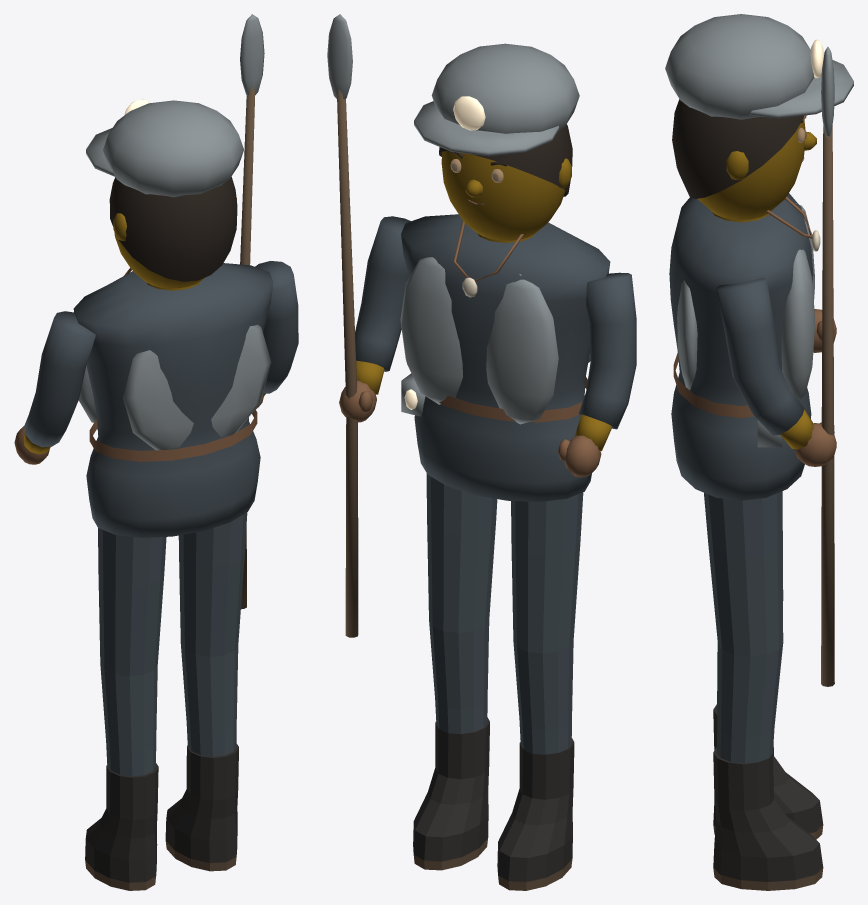
File: SM_NPC_CALDERA.glb
The picture shows the model from 3 angles, left to right: view 1: azimuth 30°, elevation 25°; view 2: azimuth 150°, elevation 25°; view 3: azimuth 270°, elevation 25°; orthographic projection. The views are drawn at different scales.
Visible parts, largest first — view 1: SM_NPC_CALDERA_BODY, SM_NPC_CALDERA_LEG_L, SM_NPC_CALDERA_HAIR, SM_NPC_CALDERA_LEG_R, SM_NPC_CALDERA_ARM_R, SM_NPC_CALDERA_ARM_L, SM_NPC_CALDERA_HEAD; view 2: SM_NPC_CALDERA_BODY, SM_NPC_CALDERA_LEG_L, SM_NPC_CALDERA_LEG_R, SM_NPC_CALDERA_HAIR, SM_NPC_CALDERA_ARM_R, SM_NPC_CALDERA_ARM_L, SM_NPC_CALDERA_HEAD; view 3: SM_NPC_CALDERA_BODY, SM_NPC_CALDERA_LEG_R, SM_NPC_CALDERA_HAIR, SM_NPC_CALDERA_ARM_R, SM_NPC_CALDERA_HEAD, SM_NPC_CALDERA_LEG_L, SM_NPC_CALDERA_ARM_L.
Part boxes in pixels (x1,y1,x2,y2): SM_NPC_CALDERA_BODY: (73, 263, 273, 537); SM_NPC_CALDERA_LEG_L: (85, 528, 166, 890); SM_NPC_CALDERA_HAIR: (86, 99, 243, 281); SM_NPC_CALDERA_LEG_R: (165, 512, 247, 871); SM_NPC_CALDERA_ARM_R: (240, 14, 298, 609); SM_NPC_CALDERA_ARM_L: (14, 311, 95, 464); SM_NPC_CALDERA_HEAD: (113, 198, 236, 288); SM_NPC_CALDERA_BODY: (400, 214, 610, 501); SM_NPC_CALDERA_LEG_L: (497, 492, 583, 890); SM_NPC_CALDERA_LEG_R: (413, 473, 497, 870); SM_NPC_CALDERA_HAIR: (414, 43, 579, 196); SM_NPC_CALDERA_ARM_R: (327, 14, 410, 637); SM_NPC_CALDERA_ARM_L: (558, 272, 636, 477); SM_NPC_CALDERA_HEAD: (441, 151, 571, 240); SM_NPC_CALDERA_BODY: (669, 193, 820, 500); SM_NPC_CALDERA_LEG_R: (704, 491, 823, 890); SM_NPC_CALDERA_HAIR: (665, 14, 853, 198); SM_NPC_CALDERA_ARM_R: (716, 46, 836, 686); SM_NPC_CALDERA_HEAD: (698, 117, 816, 220); SM_NPC_CALDERA_LEG_L: (713, 491, 823, 839); SM_NPC_CALDERA_ARM_L: (813, 309, 836, 352).
Bounding box in the file's own units: 0.7035 × 2.07 × 0.4062.
